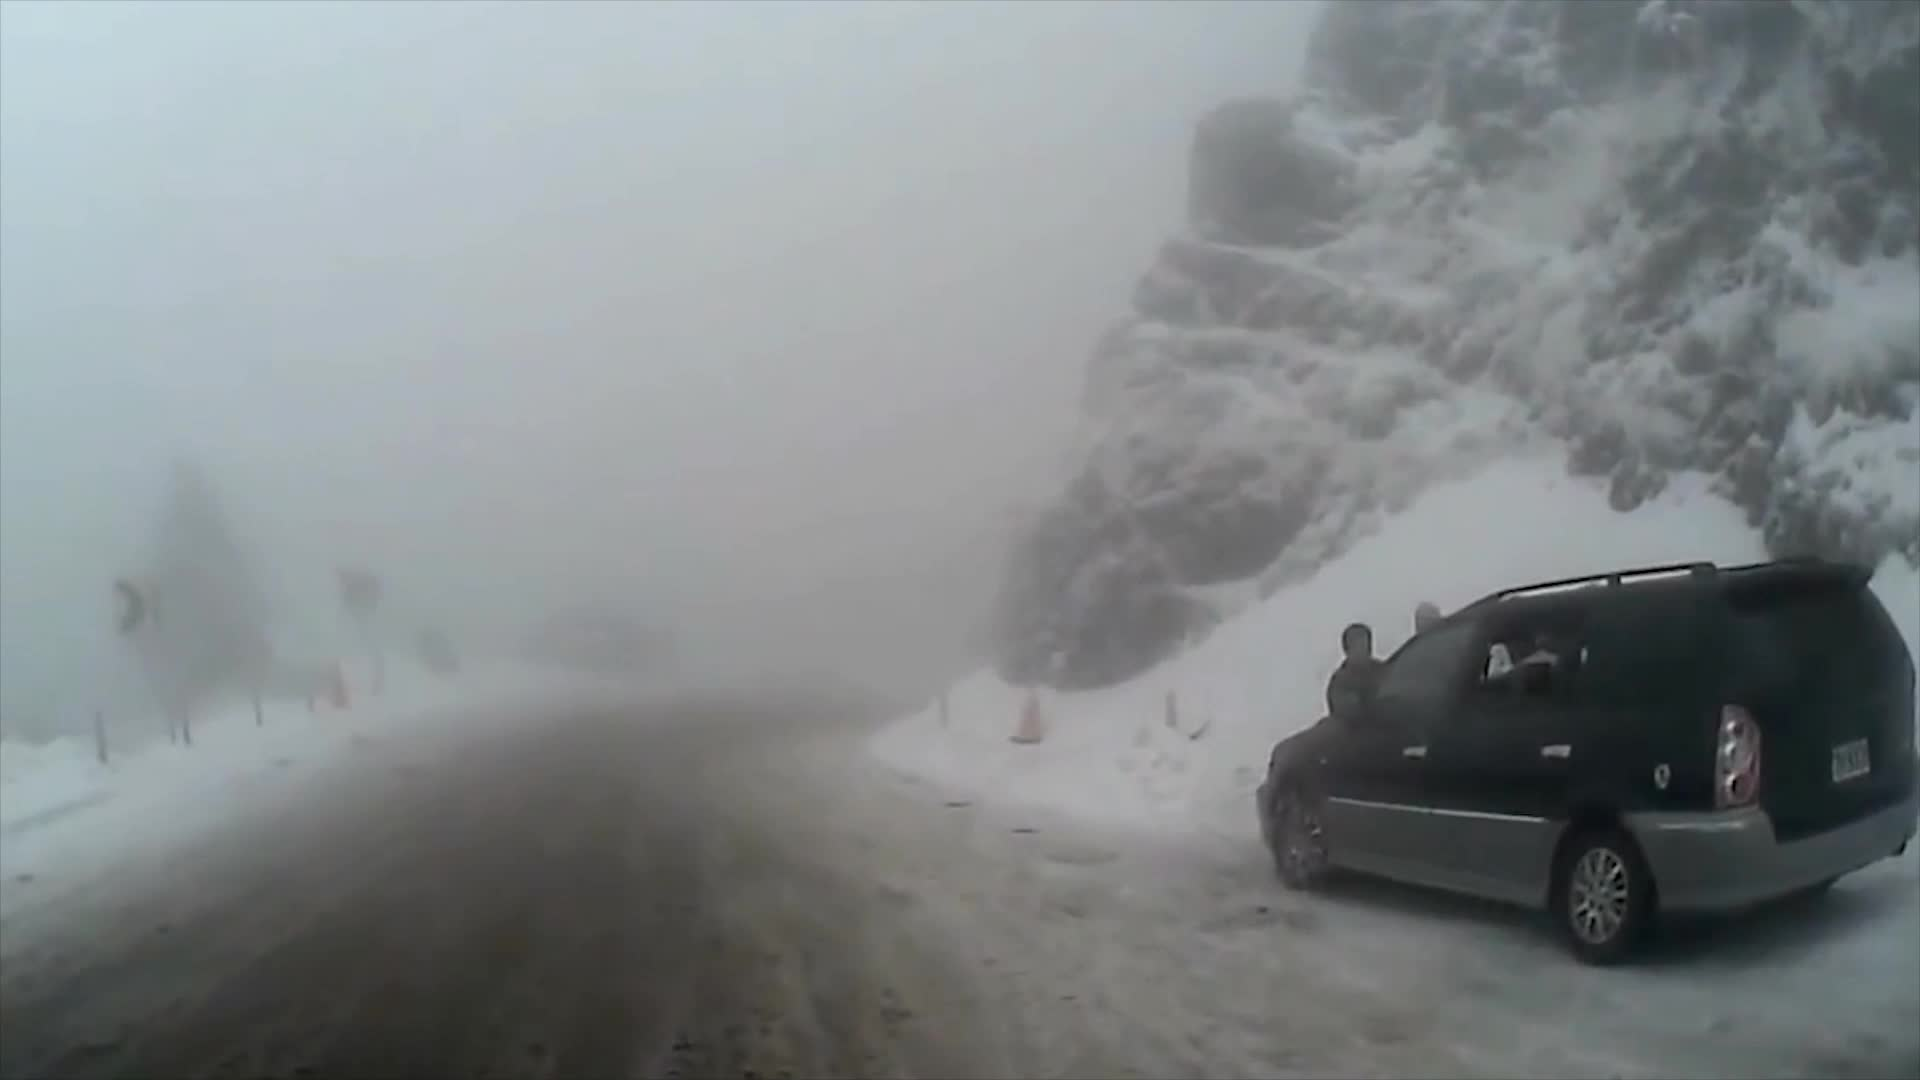pedestrian: (1322, 619, 1390, 852)
vehicle: (1254, 555, 1913, 969)
